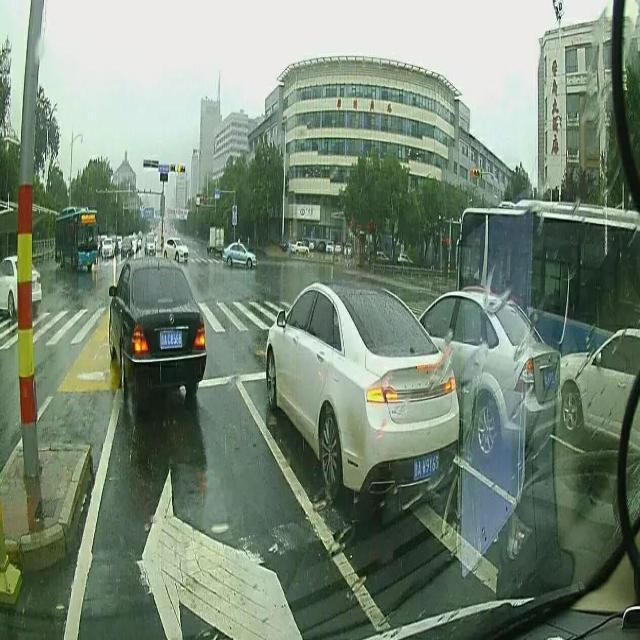car: (264, 279, 460, 497), (416, 289, 560, 462), (108, 254, 206, 402), (556, 326, 640, 444), (0, 254, 42, 316), (222, 237, 258, 270), (162, 234, 189, 262), (206, 226, 224, 252), (118, 237, 134, 258), (142, 234, 156, 254), (102, 238, 113, 258)
